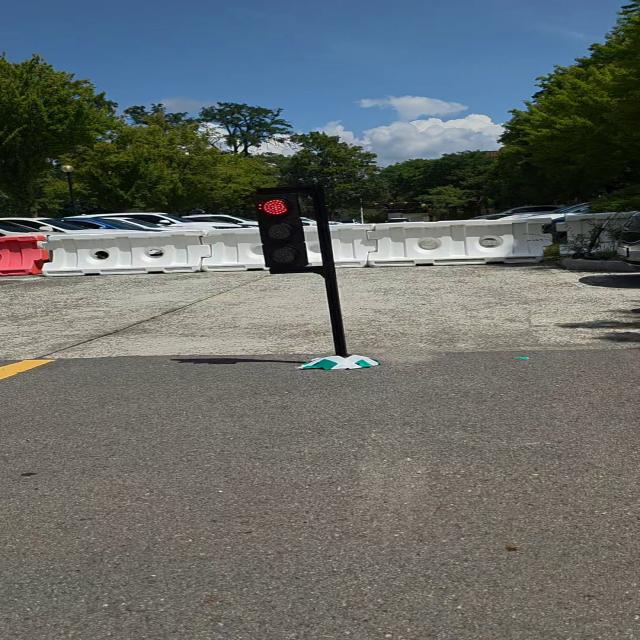red: (246, 193, 318, 269)
